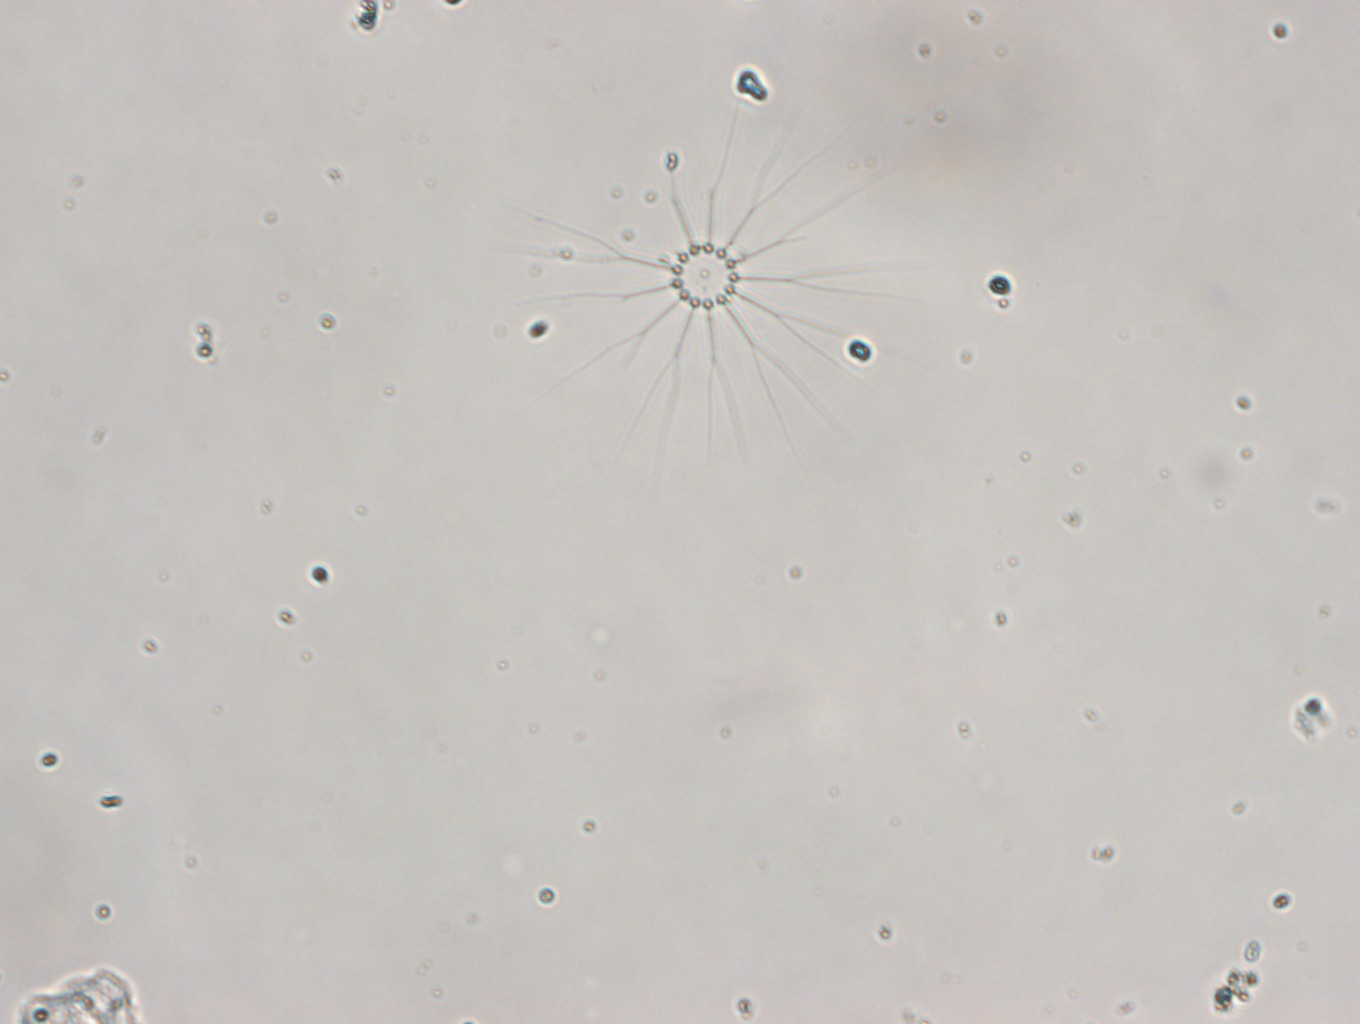bacteriastrum: (500, 95, 940, 506)
